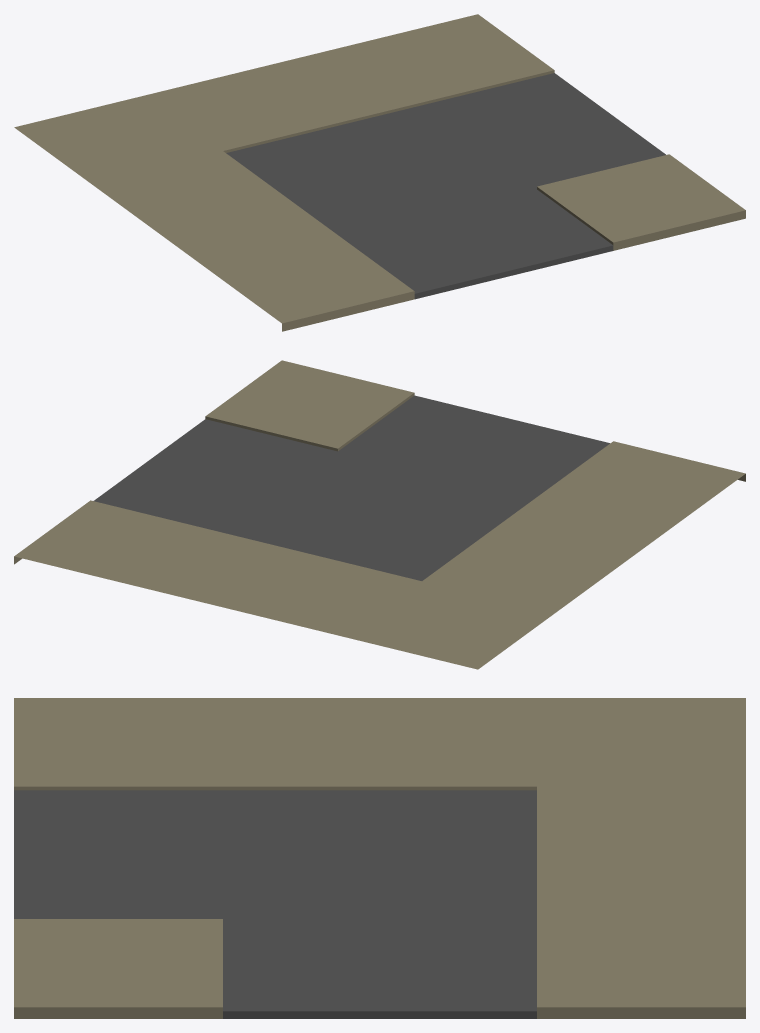
Rendered from OCDCurvaCalle.fbx.
3 views of the same model, one above another, from view 1: azimuth 30°, elevation 25°; view 2: azimuth 150°, elevation 25°; view 3: azimuth 270°, elevation 25° (orthographic). The views are drawn at different scales.
Parts seen in each view (by area): view 1: Cube.006; view 2: Cube.006; view 3: Cube.006.
Part boxes in pixels (box(x1,y1,x2,y2)): Cube.006: box(14, 14, 745, 331); Cube.006: box(14, 360, 745, 669); Cube.006: box(14, 698, 745, 1018).
Bounding box in the file's own units: 3500 × 60 × 3500.
